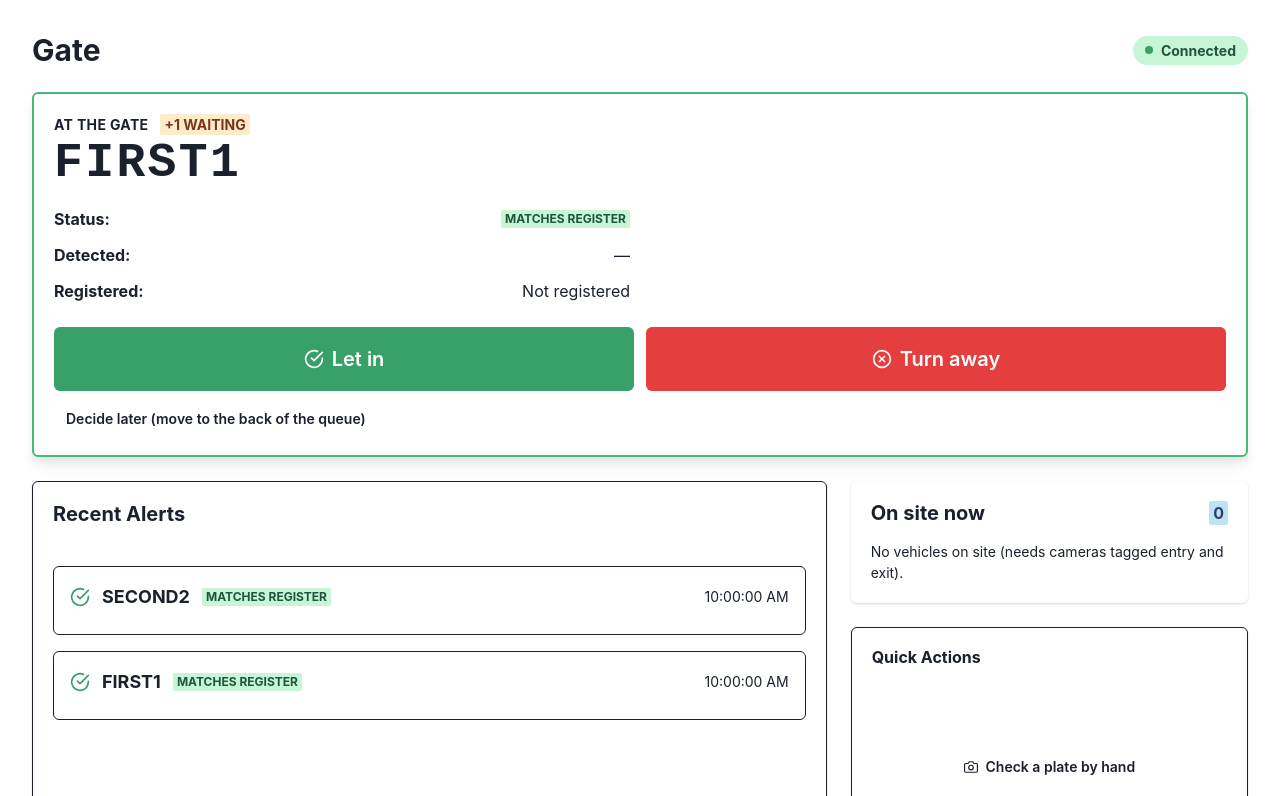
GuardDashboard decisions › an alert arriving mid-decision does not change which vehicle is approved
Expected: the heading "FIRST1" is shown, [54, 136, 241, 190]
Note: The next vehicle arrives while the guard is still reading the first.
Click the button "Let in".
click(344, 359)  # box [54, 327, 634, 391]
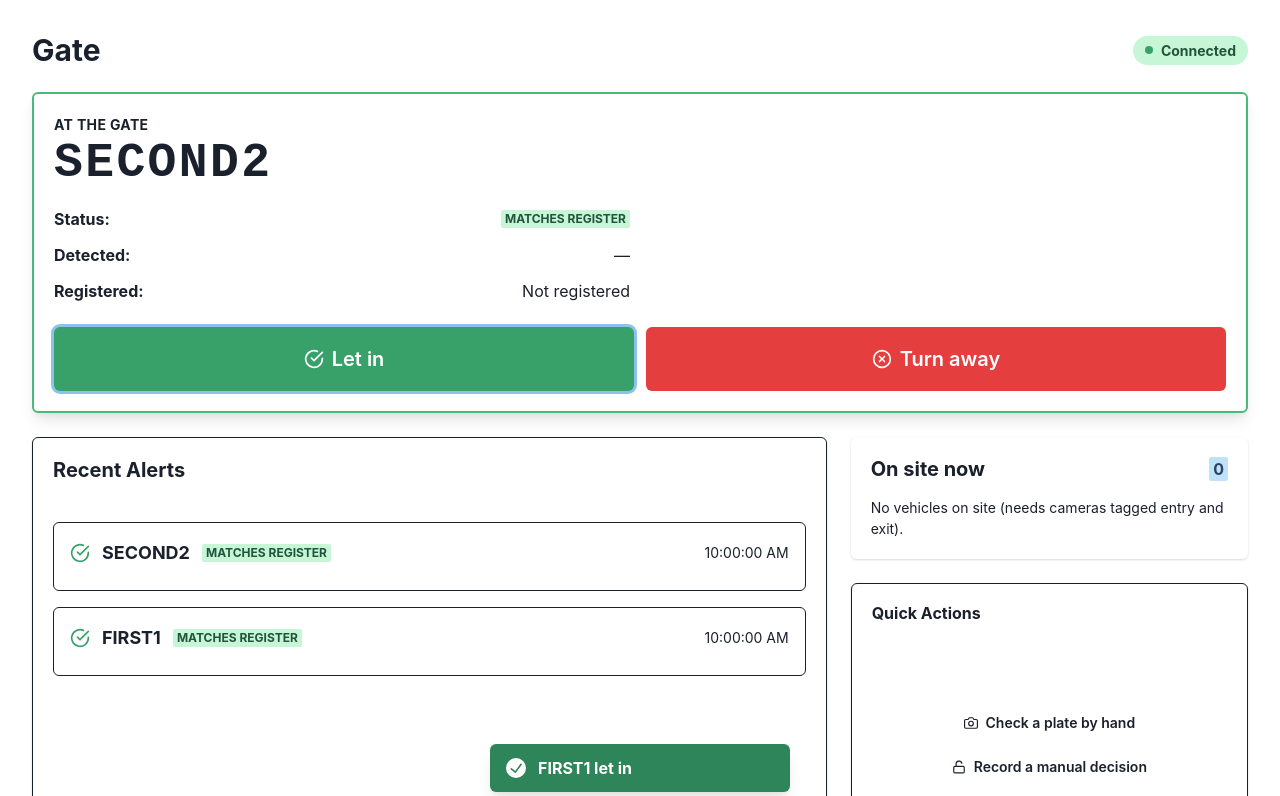
Result: the heading "SECOND2" is shown at [54, 136, 272, 190]
